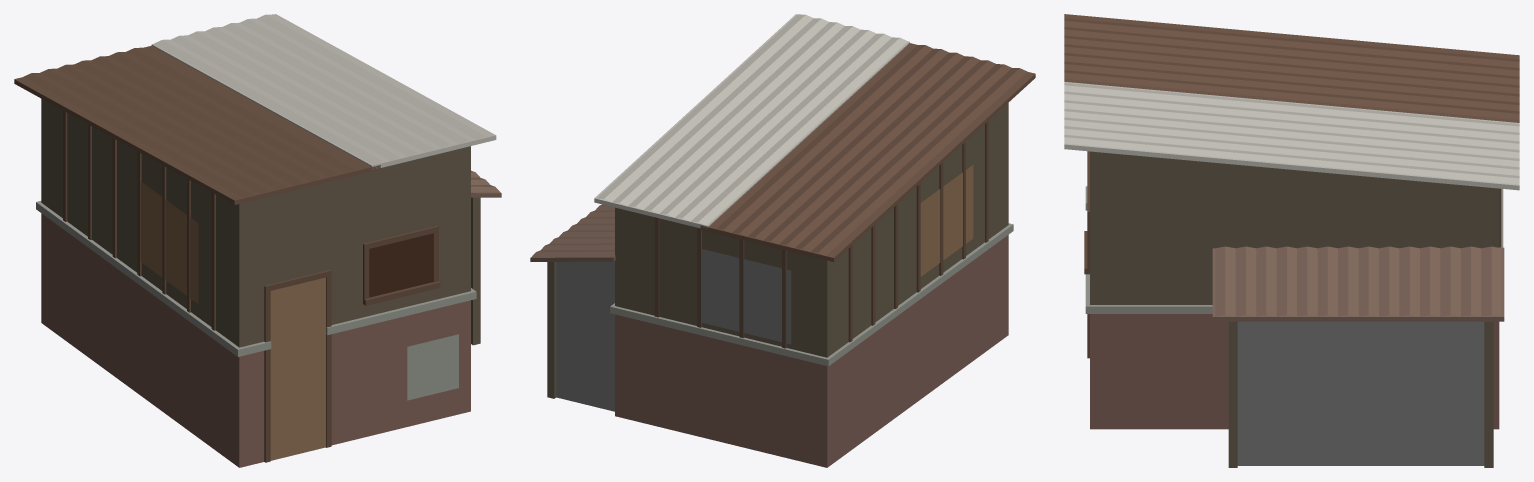
The model's file is fill4_close.fbx.
3 views of the same model, side by side, from view 1: azimuth 30°, elevation 25°; view 2: azimuth 150°, elevation 25°; view 3: azimuth 270°, elevation 25° (orthographic). The views are drawn at different scales.
Visible parts, largest first — view 1: a2014/0/fill4_close; view 2: a2014/0/fill4_close; view 3: a2014/0/fill4_close.
Boxes of the visible parts, x1,y1,x2,y2 form: a2014/0/fill4_close: (14,14,501,467); a2014/0/fill4_close: (530,14,1035,467); a2014/0/fill4_close: (1064,14,1519,467).
Bounding box in the file's own units: 3.95 × 3.16 × 4.45.
